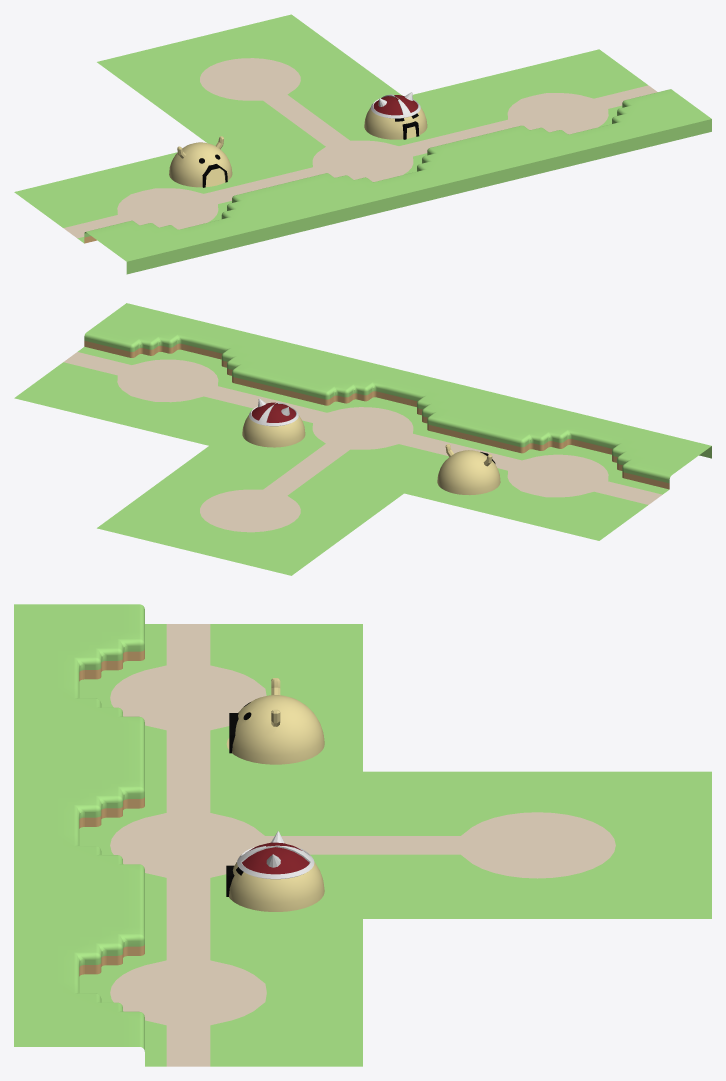
File: Kyoten.fbx
The picture shows the model from 3 angles, top to bottom: view 1: azimuth 30°, elevation 25°; view 2: azimuth 150°, elevation 25°; view 3: azimuth 270°, elevation 25°; orthographic projection. The views are drawn at different scales.
Visible parts, largest first — view 1: Plane, House, Daiku; view 2: Plane, House, Daiku; view 3: Plane, House, Daiku.
Boxes of the visible parts, box(x1,y1,x2,y2) form: Plane: box(14, 14, 711, 274); House: box(169, 136, 232, 187); Daiku: box(364, 92, 427, 139); Plane: box(14, 303, 711, 575); House: box(437, 444, 500, 495); Daiku: box(242, 398, 305, 447); Plane: box(14, 604, 711, 1066); House: box(226, 678, 324, 764); Daiku: box(226, 831, 324, 911).
Size of the model in its own units: 4800 by 250 by 3200.
